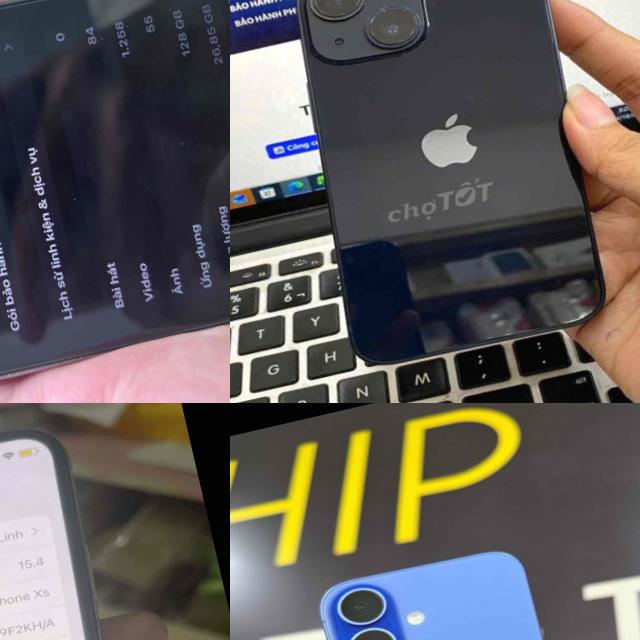gen_12_13: (274, 0, 624, 369)
gen_14: (0, 0, 230, 403)
gen_16: (320, 552, 542, 640)
gen_x_xs: (0, 403, 182, 640)
